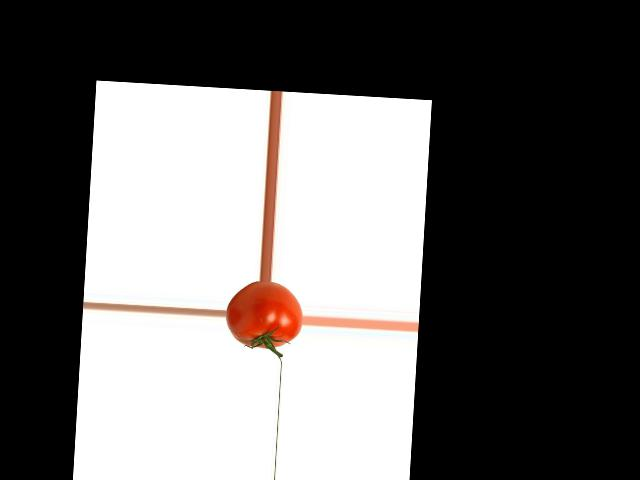tomato: (223, 280, 304, 351)
